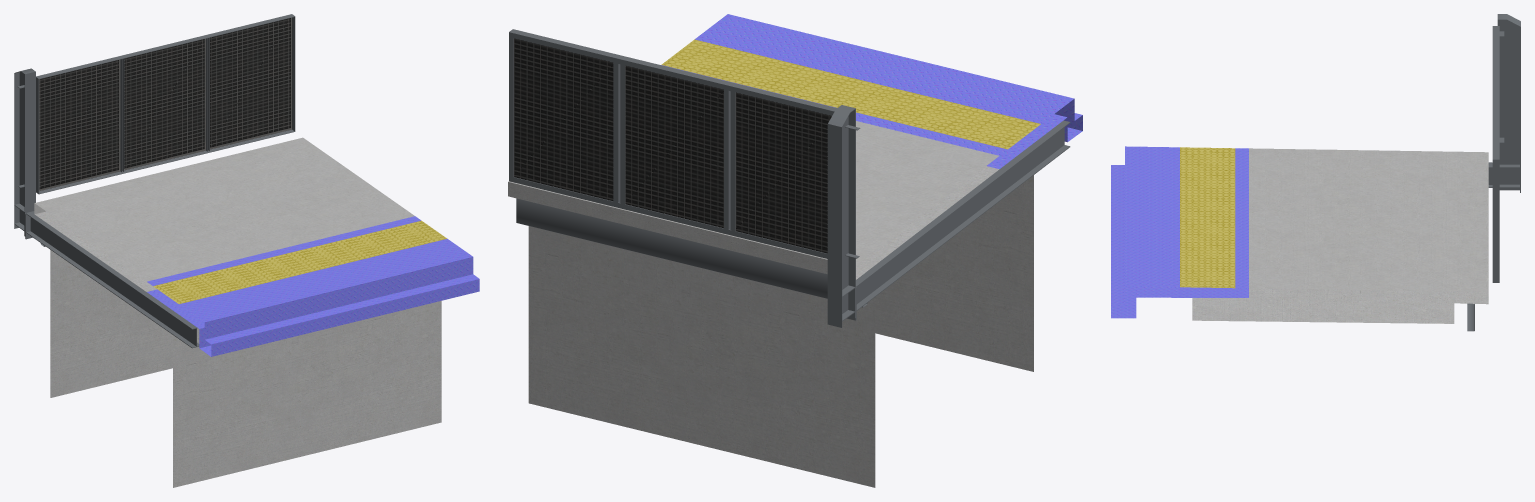
File: Platform-A.fbx
The picture shows the model from 3 angles, left to right: view 1: azimuth 30°, elevation 25°; view 2: azimuth 150°, elevation 25°; view 3: azimuth 270°, elevation 25°; orthographic projection. The views are drawn at different scales.
Parts seen in each view (by area): view 1: Platform-A; view 2: Platform-A; view 3: Platform-A.
Boxes of the visible parts, <box> form: Platform-A: <box>14,14,479,487</box>; Platform-A: <box>508,14,1082,487</box>; Platform-A: <box>1111,14,1520,331</box>.
Size of the model in its own units: 3.73 by 3.98 by 4.46.
